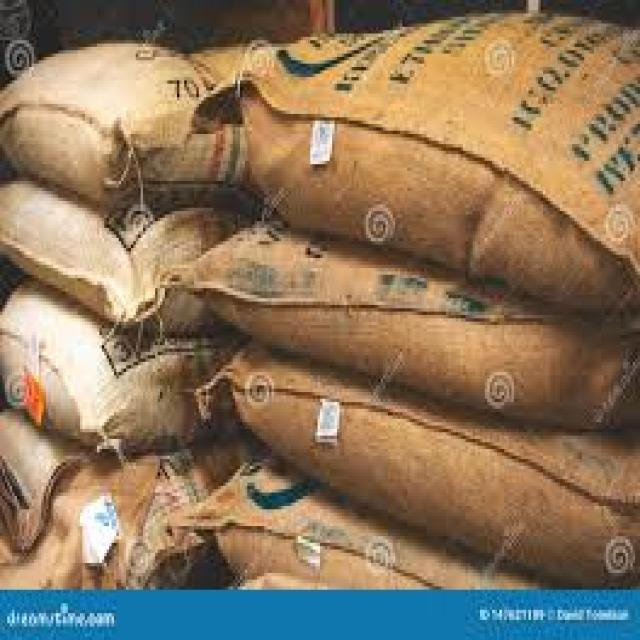sack: (194, 50, 640, 320), (199, 350, 636, 594), (179, 224, 640, 428), (0, 40, 128, 204), (0, 174, 128, 335), (0, 278, 104, 463)
